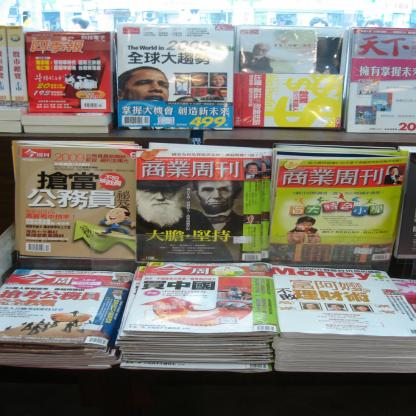book: (1, 262, 142, 371)
